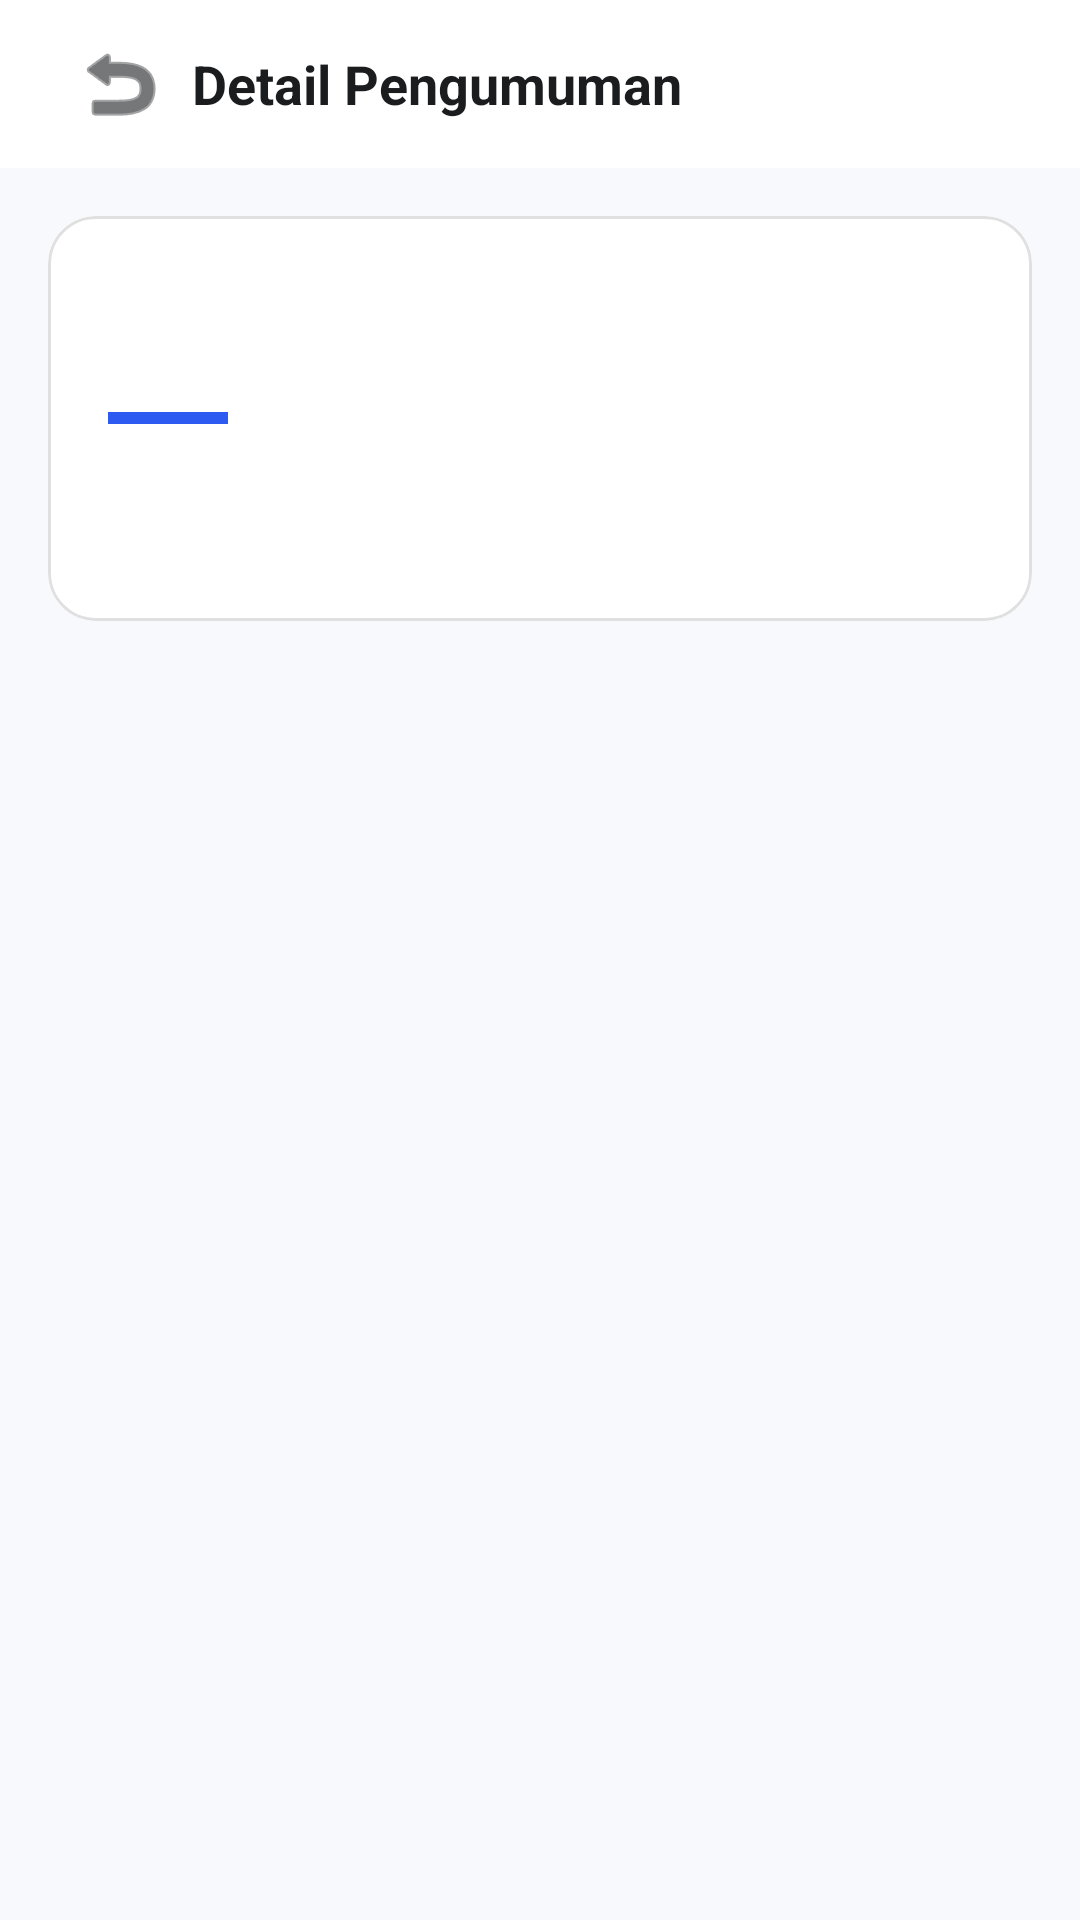

Icons on this 1080x1920 Android screen, each with its box as [x1=x1, y1=y1, x2=x2, y2=y2]:
revert: [x1=87, y1=53, x2=156, y2=116]
